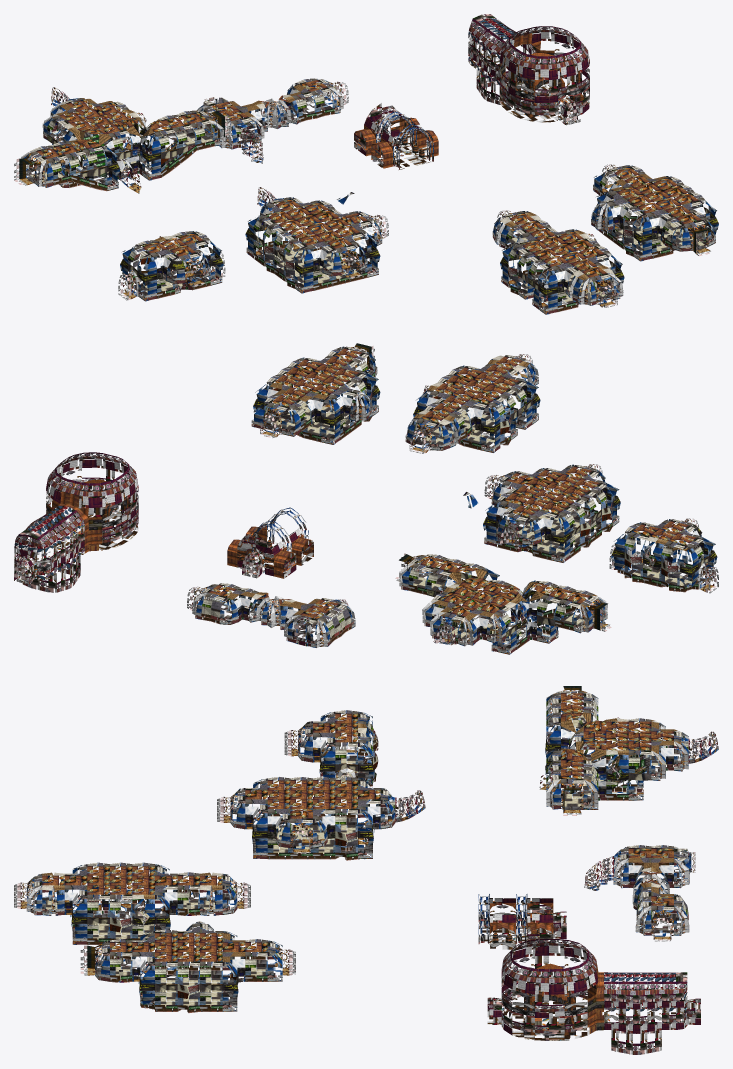
3 views of the same model, one above another, from view 1: azimuth 30°, elevation 25°; view 2: azimuth 150°, elevation 25°; view 3: azimuth 270°, elevation 25° (orthographic). The views are drawn at different scales.
Visible parts, largest first — view 1: T1L3M001_185, T1L3M001_173, T1L3M001_58, T1L3M001_35, T1L3M001_105, T1L3M001_130, T1L3M001_183, T1L3M001_163, T1L3M001_184, T1L3M001_174, T1L3M001_74, T1L3M001_317 (+1 smaller); view 2: T1L3M001_102, T1L3M001_130, T1L3M001_14, T1L3M001_35, T1L3M001_104, T1L3M001_103, T1L3M001_58, T1L3M001_185, T1L3M001_74, T1L3M001_13, T1L3M001_11, T1L3M001_159 (+3 smaller); view 3: T1L3M001_134, T1L3M001_105, T1L3M001_60, T1L3M001_37, T1L3M001_76, T1L3M001_167, T1L3M001_177, T1L3M001_176, T1L3M001_14, T1L3M001_422, T1L3M001_69, T1L3M001_181.
Part boxes in pixels (<box>): T1L3M001_185: <box>553,50,582,122</box>; T1L3M001_173: <box>515,52,538,121</box>; T1L3M001_58: <box>481,32,500,102</box>; T1L3M001_35: <box>473,24,491,94</box>; T1L3M001_105: <box>532,26,567,90</box>; T1L3M001_130: <box>499,41,516,110</box>; T1L3M001_183: <box>534,69,548,122</box>; T1L3M001_163: <box>508,48,523,116</box>; T1L3M001_184: <box>542,55,557,122</box>; T1L3M001_174: <box>524,56,552,119</box>; T1L3M001_74: <box>491,39,509,104</box>; T1L3M001_317: <box>307,241,334,277</box>; T1L3M001_102: <box>88,481,115,551</box>; T1L3M001_130: <box>108,475,130,547</box>; T1L3M001_14: <box>14,528,42,581</box>; T1L3M001_35: <box>45,525,65,592</box>; T1L3M001_104: <box>51,477,83,550</box>; T1L3M001_103: <box>76,482,101,553</box>; T1L3M001_58: <box>55,518,75,589</box>; T1L3M001_185: <box>95,452,124,519</box>; T1L3M001_74: <box>65,510,84,581</box>; T1L3M001_13: <box>34,533,53,580</box>; T1L3M001_11: <box>201,592,226,624</box>; T1L3M001_159: <box>255,533,286,576</box>; T1L3M001_134: <box>549,969,575,1040</box>; T1L3M001_105: <box>569,961,604,1035</box>; T1L3M001_60: <box>626,995,647,1054</box>; T1L3M001_37: <box>647,994,669,1053</box>; T1L3M001_76: <box>604,994,625,1053</box>; T1L3M001_167: <box>535,969,549,1040</box>; T1L3M001_177: <box>512,981,535,1040</box>; T1L3M001_176: <box>506,961,538,1035</box>; T1L3M001_14: <box>669,972,695,1028</box>; T1L3M001_422: <box>132,894,154,930</box>; T1L3M001_69: <box>606,750,628,786</box>; T1L3M001_181: <box>490,914,515,949</box>.
Size of the model in its own units: 123 by 18 by 125.
